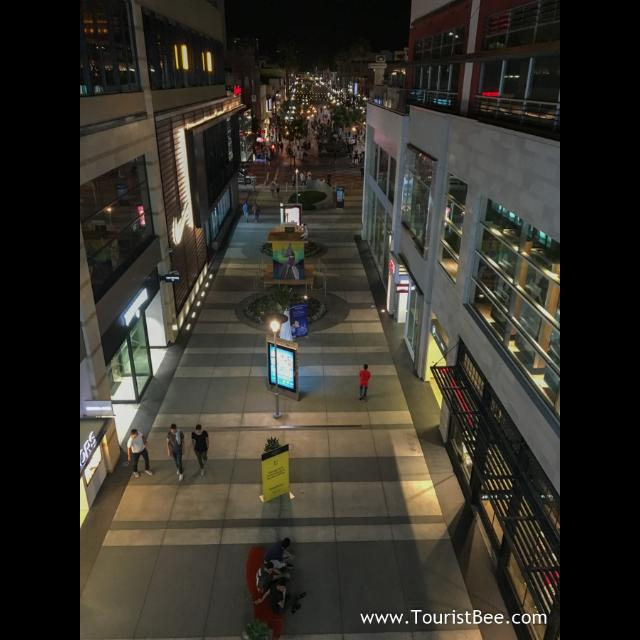head: (266, 562, 276, 576), (282, 538, 292, 548), (130, 429, 140, 438), (172, 424, 178, 436), (280, 582, 286, 592), (196, 426, 202, 434), (364, 364, 368, 370), (254, 203, 258, 207), (272, 183, 276, 187), (245, 201, 248, 205), (278, 182, 280, 184)
person: (125, 426, 156, 479), (254, 560, 294, 596), (165, 421, 187, 484), (262, 535, 298, 571), (190, 422, 213, 478), (255, 580, 293, 610), (358, 362, 374, 402), (251, 202, 261, 224), (242, 200, 250, 223), (274, 180, 282, 200), (269, 182, 277, 198)
